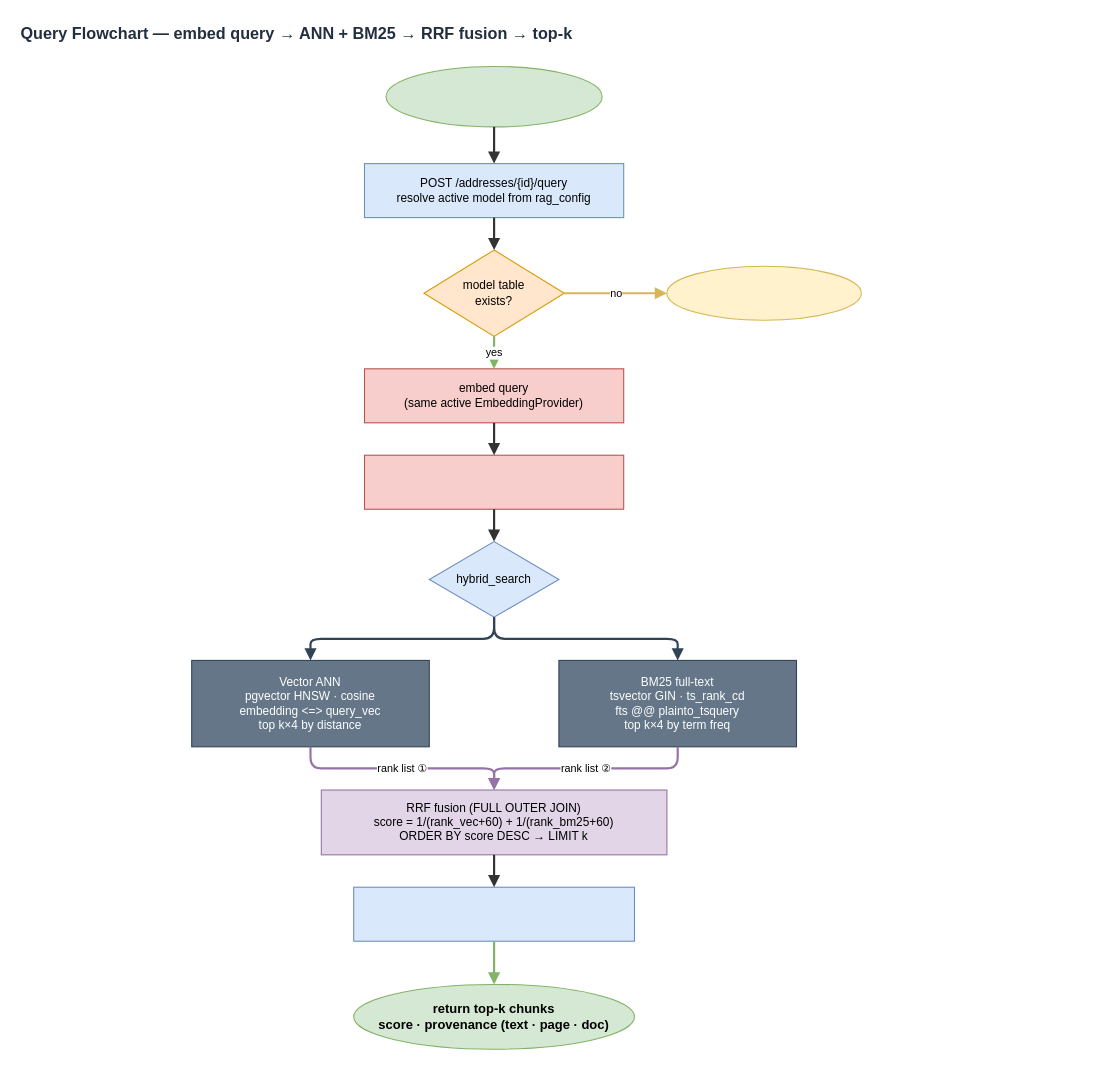
The diagram is 1117 pixels wide and 1068 high, and some of its shapes have lost their labels. The shapes that lost their labels are listed below. From the top down, each one's centre as x and y in pixels, then its label:
(x=493, y=96): Start agent asks a question
(x=763, y=292): return empty results (log query) → end
(x=493, y=481): apply mandatory WHERE address_id = ? (isolation chokepoint)
(x=493, y=913): log latency · candidates · returned · cost (query_log)
